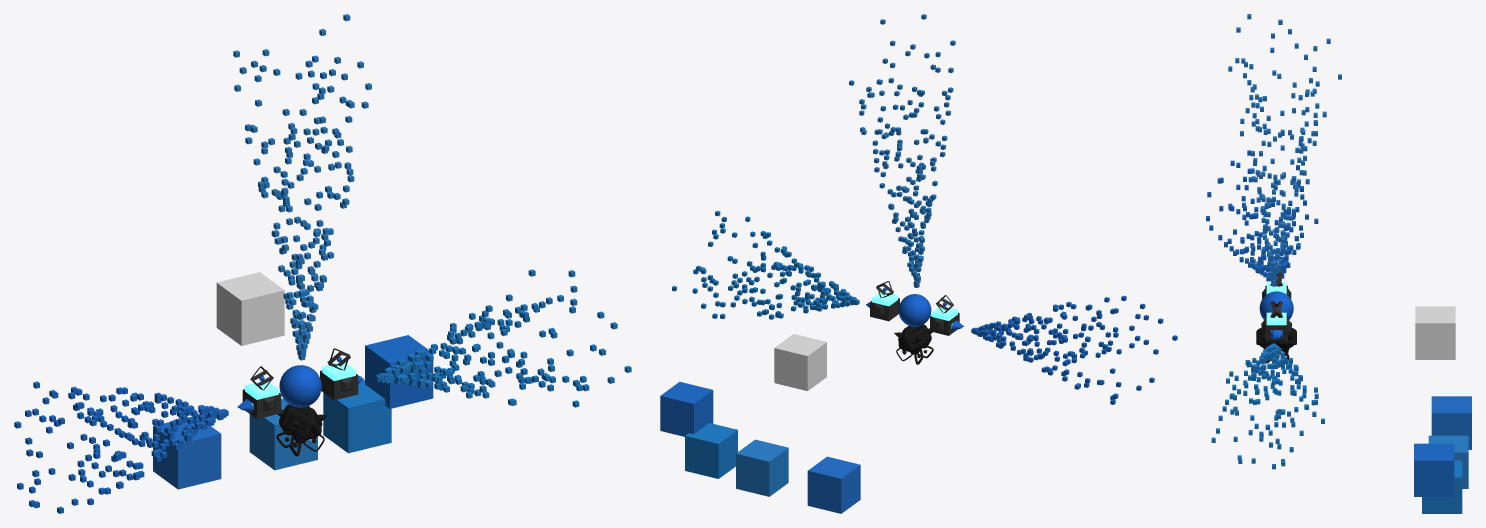
Rendered from cube model #1 without force.fbx.
The picture shows the model from 3 angles, left to right: view 1: azimuth 30°, elevation 25°; view 2: azimuth 150°, elevation 25°; view 3: azimuth 270°, elevation 25°; orthographic projection. The views are drawn at different scales.
Parts seen in each view (by area): view 1: Cube, Cube.007, Cube.005, Cube.006, Cube.004, Cube.003, Cube.001, Sphere.001, Cube.002; view 2: Cube.005, Cube.004, Cube, Cube.006, Cube.007, Cube.003, Cube.001, Sphere.001; view 3: Cube, Cube.006, Cube.005, Cube.007, Cube.003, Cube.004, Sphere.001, Cube.001, Cube.002.
Boxes of the visible parts, box(x1,y1,x2,y2) form: Cube: box(216, 272, 284, 345); Cube.007: box(323, 380, 391, 453); Cube.005: box(153, 416, 221, 489); Cube.006: box(365, 335, 433, 408); Cube.004: box(249, 398, 317, 470); Cube.003: box(237, 348, 363, 418); Cube.001: box(276, 404, 327, 456); Sphere.001: box(279, 365, 321, 407); Cube.002: box(245, 362, 355, 409); Cube.005: box(807, 456, 860, 513); Cube.004: box(736, 439, 788, 496); Cube: box(774, 334, 826, 391); Cube.006: box(660, 382, 713, 436); Cube.007: box(685, 423, 737, 478); Cube.003: box(866, 281, 963, 335); Cube.001: box(894, 324, 933, 364); Sphere.001: box(898, 294, 931, 326); Cube: box(1415, 306, 1455, 359); Cube.006: box(1414, 443, 1454, 496); Cube.005: box(1431, 396, 1471, 449); Cube.007: box(1422, 460, 1462, 513); Cube.003: box(1262, 272, 1291, 340); Cube.004: box(1428, 435, 1468, 488); Sphere.001: box(1259, 291, 1293, 319); Cube.001: box(1256, 323, 1296, 363); Cube.002: box(1266, 282, 1286, 331).
Size of the model in its own units: 2823 by 2374 by 1323.
